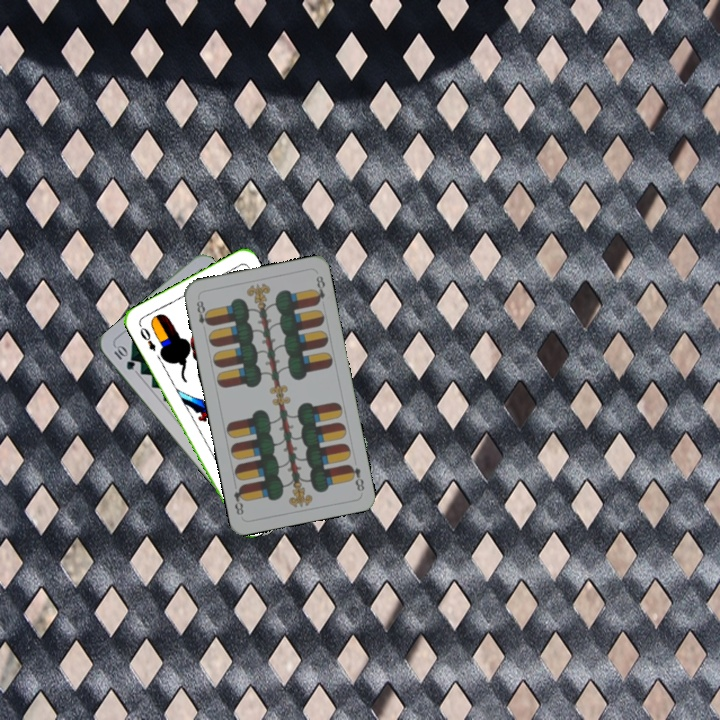E8: (344, 460, 367, 494), (192, 294, 213, 328)
EO: (135, 320, 158, 354)
G10: (110, 341, 138, 373)
